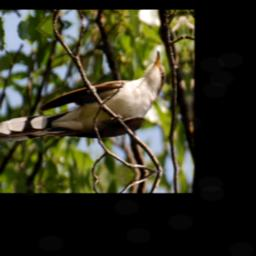Cuckoo: (0, 49, 171, 155)
